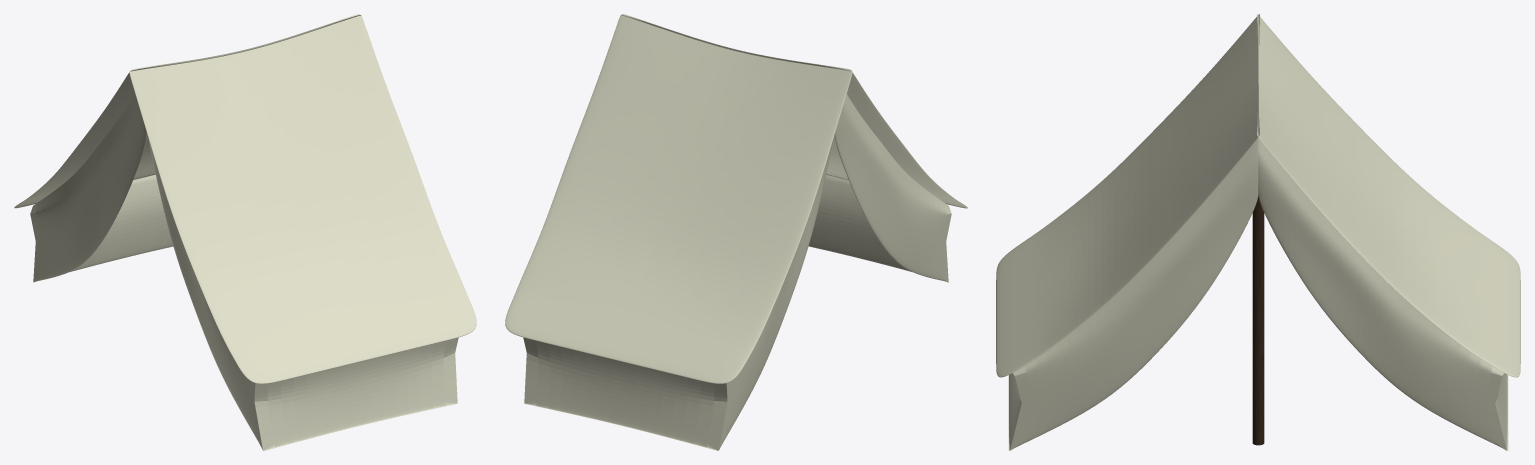
File: sator.fbx
3 views of the same model, side by side, from view 1: azimuth 30°, elevation 25°; view 2: azimuth 150°, elevation 25°; view 3: azimuth 270°, elevation 25° (orthographic). The views are drawn at different scales.
Parts seen in each view (by area): view 1: Plane; view 2: Plane; view 3: Plane, Cylinder.
Boxes of the visible parts, x1,y1,x2,y2 form: Plane: [14, 14, 476, 450]; Plane: [505, 14, 967, 450]; Plane: [996, 14, 1520, 450]; Cylinder: [1252, 194, 1264, 445].
Bounding box in the file's own units: 207 × 247 × 361.
